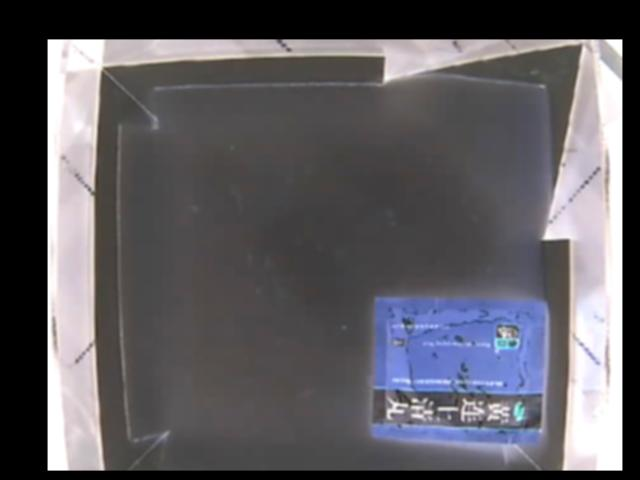Medicine: (372, 295, 546, 443)
